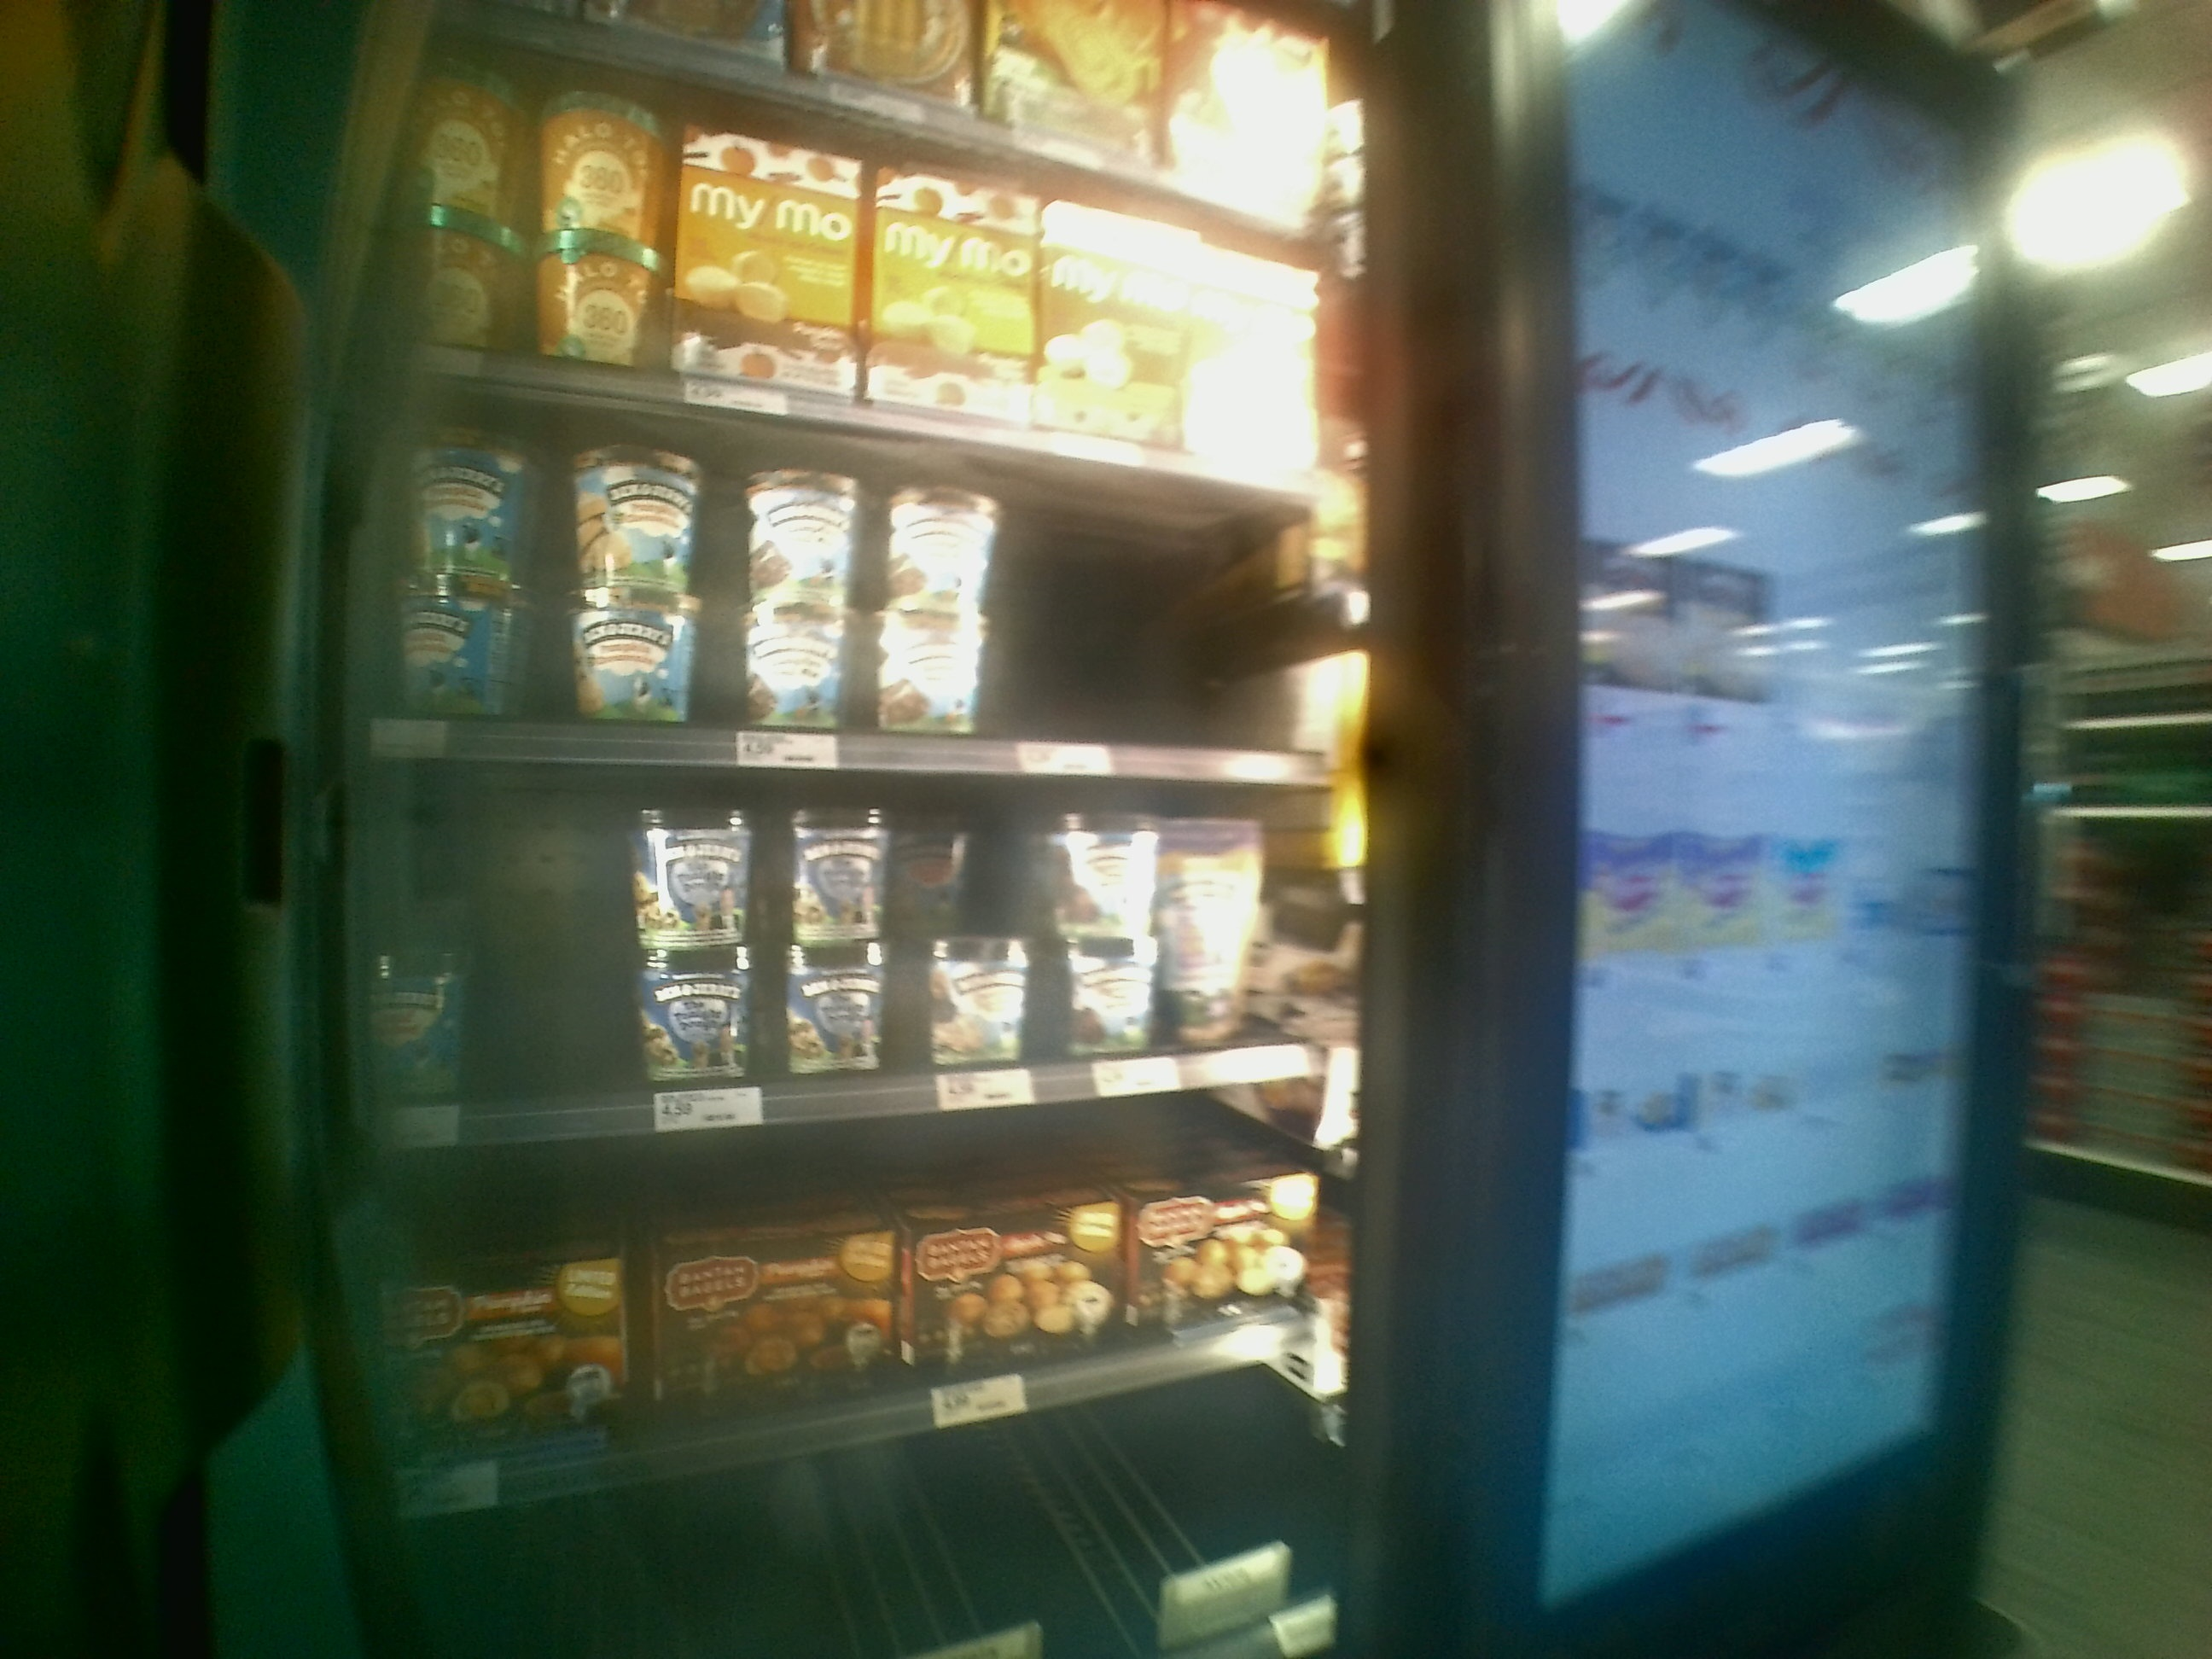shelf: (319, 336, 1325, 775), (312, 732, 1346, 1094), (333, 1124, 1320, 1490)
